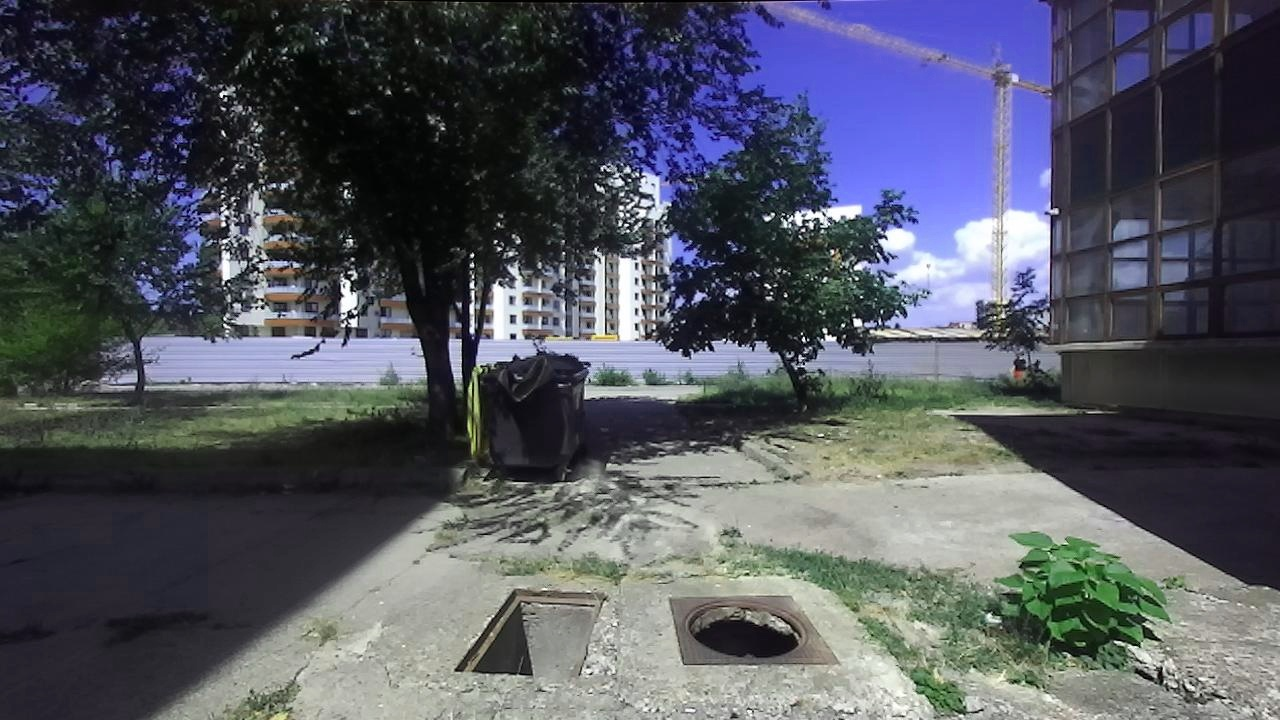drain: (448, 582, 607, 676), (681, 597, 808, 662)
